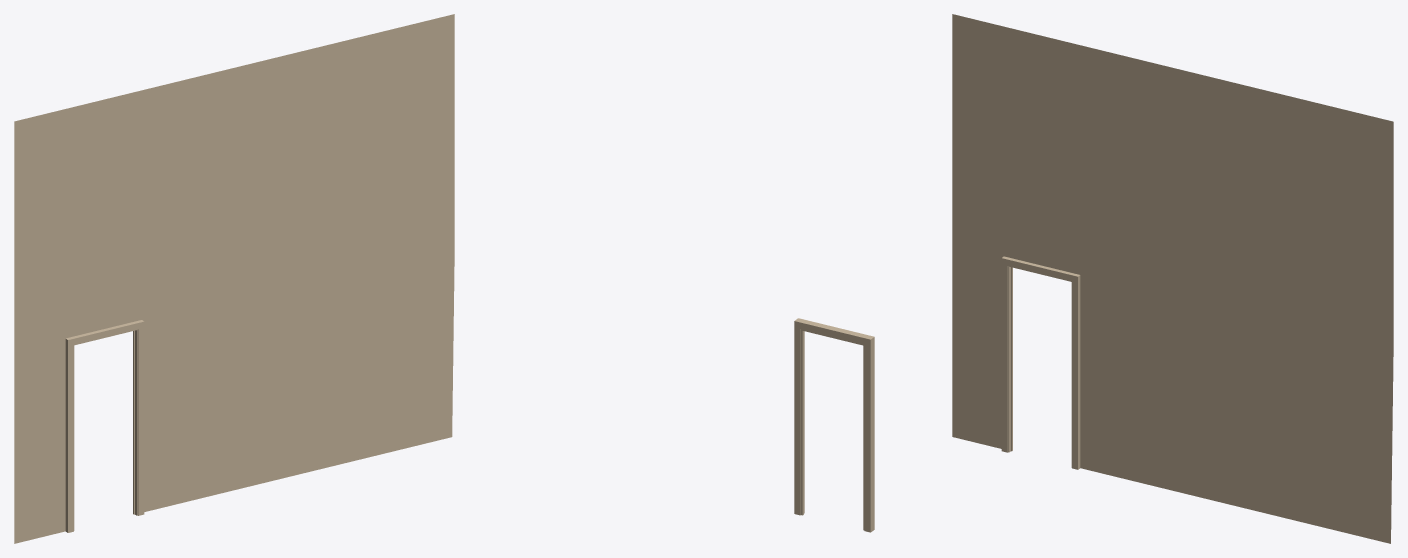
Rendered from wall.gltf.
The picture shows the model from 3 angles, left to right: view 1: azimuth 30°, elevation 25°; view 2: azimuth 150°, elevation 25°; view 3: azimuth 330°, elevation 25°; orthographic projection.
Visible parts, largest first — view 1: marc; view 2: marc; view 3: marc.
Part boxes in pixels (x1,y1,x2,y2): marc: (14,14,454,543); marc: (794,318,874,532); marc: (952,14,1393,543).
Bounding box in the file's own units: 5.04 × 4.62 × 0.0785.
